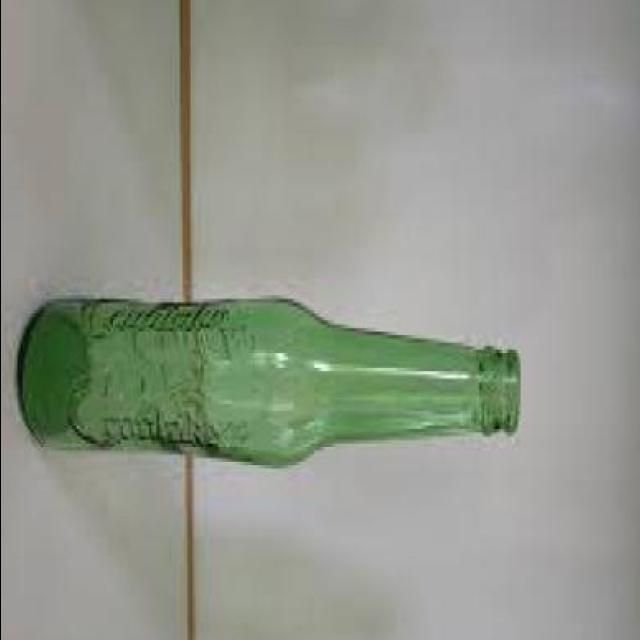kaca: (18, 296, 521, 462)
